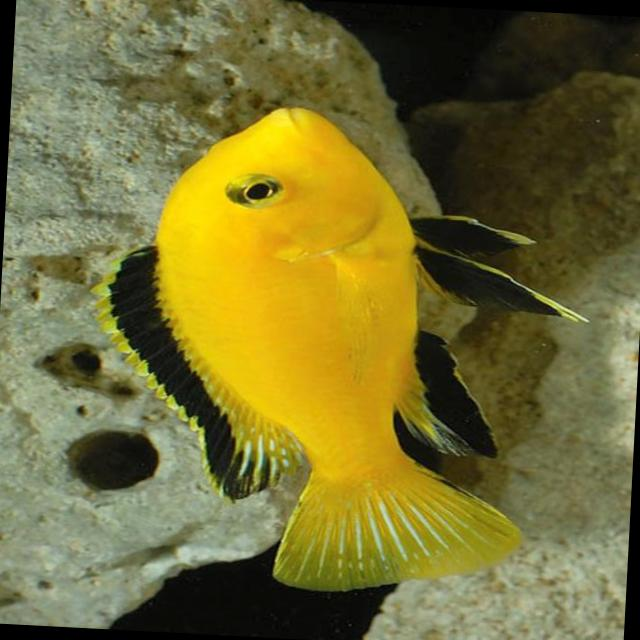YellowCichlid: (81, 103, 551, 595)
